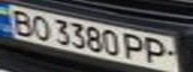0: (103, 28, 124, 57)
3: (48, 17, 72, 46), (66, 20, 87, 51)
8: (84, 24, 106, 55)
B: (3, 7, 39, 36)
O: (27, 12, 54, 42)
P: (139, 35, 175, 65), (121, 32, 148, 62)
